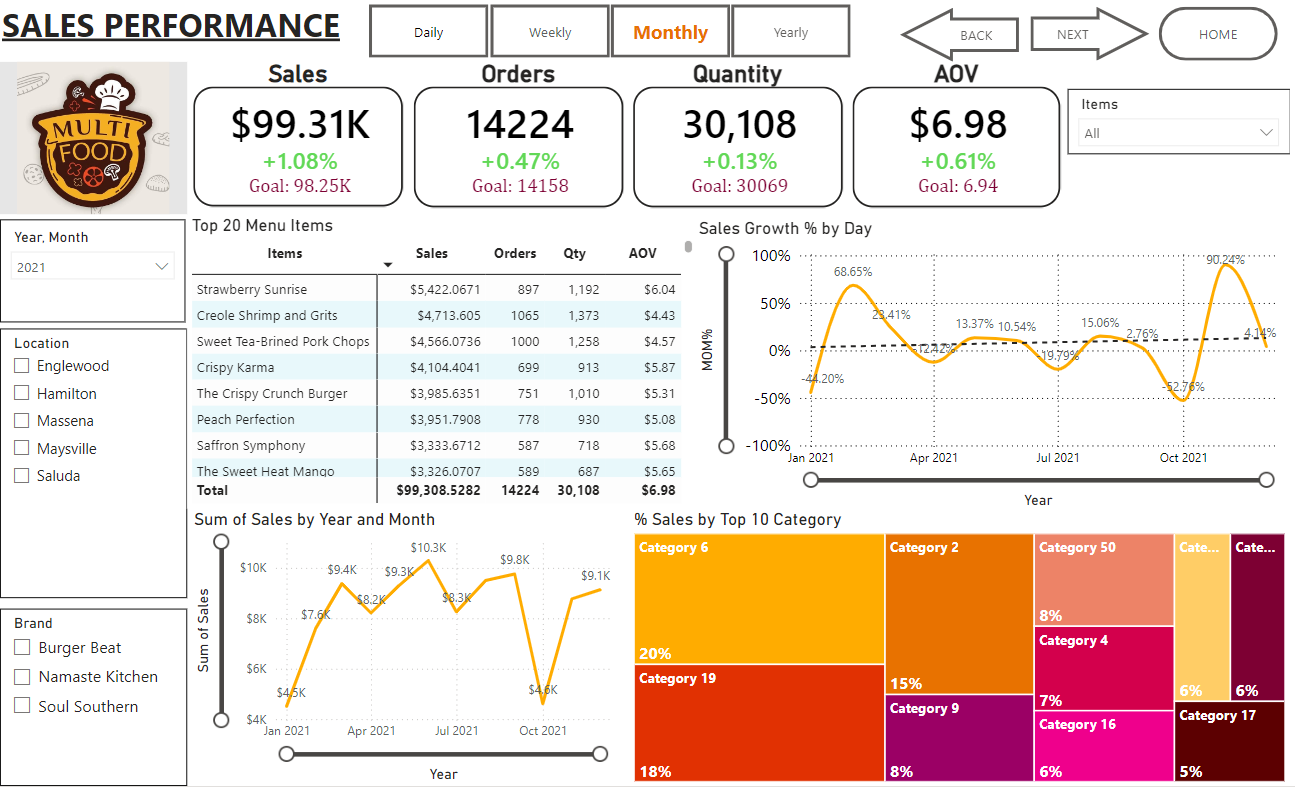

This screenshot's page, from the dashboard's own definition file:
{"tool":"powerbi","page":{"name":"MONTHLY SALES PERFORMANCE","canvas":[1280,780],"ordinal":2},"visuals":[{"type":"PBI_CV_7B952816_A48F_49B4_9E13_15E3BB2C0337","title":"Sales","fields":{"Values":["Sum(sales_data.Total Price)"],"target":["Live Data.Previous Month Revenue"]},"box":[186.6,59.6,218.2,150.9],"z":0},{"type":"treemap","title":"% Sales by Top 10 Category","fields":{"Values":["Sum(Live Data.Sales)"],"Group":["Live Data.Category"]},"box":[624.3,504.3,655.7,275.7],"z":1000},{"type":"slicer","fields":{"Values":["sales_data.Location"]},"box":[0,325.7,185.7,267.1],"z":2000},{"type":"PBI_CV_7B952816_A48F_49B4_9E13_15E3BB2C0337","title":"Orders","fields":{"Values":["Count(sales_data.Order ID)"],"target":["Live Data.Previous Month Orders"]},"box":[404.8,59.6,218.2,152.3],"z":3000},{"type":"PBI_CV_7B952816_A48F_49B4_9E13_15E3BB2C0337","title":"Quantity","fields":{"Values":["Sum(sales_data.Quantity)"],"target":["Live Data.Previous Month Quantity"]},"box":[623,59,218.2,152.3],"z":4000},{"type":"PBI_CV_7B952816_A48F_49B4_9E13_15E3BB2C0337","title":"AOV","fields":{"Values":["sales_data.AOV"],"target":["Live Data.Previous Month AOV"]},"box":[840.5,58.9,216.8,152.6],"z":5000},{"type":"lineChart","title":"Sales Growth % by Day","fields":{"Y":["Live Data.MOM%"],"Category":["Live Data.Date.Variation.Date Hierarchy.Year","Live Data.Date.Variation.Date Hierarchy.Month"]},"box":[692.9,217.1,587.1,287.1],"z":6000},{"type":"actionButton","box":[1149.9,6.9,118,53.5],"z":7000},{"type":"slicer","fields":{"Values":["Live Data.Food Name"]},"box":[1059.1,87.8,220.9,64.5],"z":8000},{"type":"textbox","box":[0,0,365.7,58.6],"z":9000},{"type":"actionButton","box":[1022.3,6.9,118,53.5],"z":10000},{"type":"actionButton","box":[893.3,8.2,118,53.5],"z":11000},{"type":"slicer","title":"Date","fields":{"Values":["Live Data.Date.Variation.Date Hierarchy.Year","Live Data.Date.Variation.Date Hierarchy.Month"]},"box":[0,217.2,184.1,102],"z":12000},{"type":"lineChart","fields":{"Y":["Sum(Live Data.Sales)"],"Category":["Live Data.Date.Variation.Date Hierarchy.Year","Live Data.Date.Variation.Date Hierarchy.Month"]},"box":[187.1,504.3,437.1,275.7],"z":13000},{"type":"slicer","fields":{"Values":["sales_data.Brand"]},"box":[0,604.3,185.7,175.7],"z":14000},{"type":"actionButton","box":[365.7,4.3,118.6,52.9],"z":15000},{"type":"actionButton","box":[486.3,4.5,118.6,52.9],"z":16000},{"type":"actionButton","box":[606.1,4.2,118.6,52.9],"z":17000},{"type":"actionButton","box":[725.7,4.3,118.6,52.9],"z":18000},{"type":"image","box":[0,61.4,185.7,151.4],"z":19000},{"type":"pivotTable","title":"Top 20 Menu Items","fields":{"Values":["Sum(Live Data.Sales)","Count(Live Data.Order ID)","Sum(Live Data.Quantity)","Live Data.AOV"],"Rows":["Live Data.Food Name"]},"box":[185.7,212.9,507.1,291.4],"z":20000}]}

Visuals, with their boxes in screenshot pixels (x1, y1, x2, y2), scaled from the page's 1280x780 canvas onto the 1295x787 screenshot:
"Sales" PBI_CV_7B952816_A48F_49B4_9E13_15E3BB2C0337: bbox(189, 60, 410, 212)
"% Sales by Top 10 Category" treemap: bbox(632, 509, 1294, 786)
slicer - sales_data.Location: bbox(0, 329, 188, 598)
"Orders" PBI_CV_7B952816_A48F_49B4_9E13_15E3BB2C0337: bbox(410, 60, 630, 214)
"Quantity" PBI_CV_7B952816_A48F_49B4_9E13_15E3BB2C0337: bbox(630, 60, 851, 213)
"AOV" PBI_CV_7B952816_A48F_49B4_9E13_15E3BB2C0337: bbox(850, 59, 1070, 213)
"Sales Growth % by Day" lineChart: bbox(701, 219, 1294, 509)
actionButton: bbox(1163, 7, 1283, 61)
slicer - Live Data.Food Name: bbox(1072, 89, 1294, 154)
textbox: bbox(0, 0, 370, 59)
actionButton: bbox(1034, 7, 1154, 61)
actionButton: bbox(904, 8, 1023, 62)
"Date" slicer: bbox(0, 219, 186, 322)
lineChart - Sum(Live Data.Sales) x Live Data.Date.Variation.Date Hierarchy.Year: bbox(189, 509, 632, 786)
slicer - sales_data.Brand: bbox(0, 610, 188, 786)
actionButton: bbox(370, 4, 490, 58)
actionButton: bbox(492, 5, 612, 58)
actionButton: bbox(613, 4, 733, 58)
actionButton: bbox(734, 4, 854, 58)
image: bbox(0, 62, 188, 215)
"Top 20 Menu Items" pivotTable: bbox(188, 215, 701, 509)
